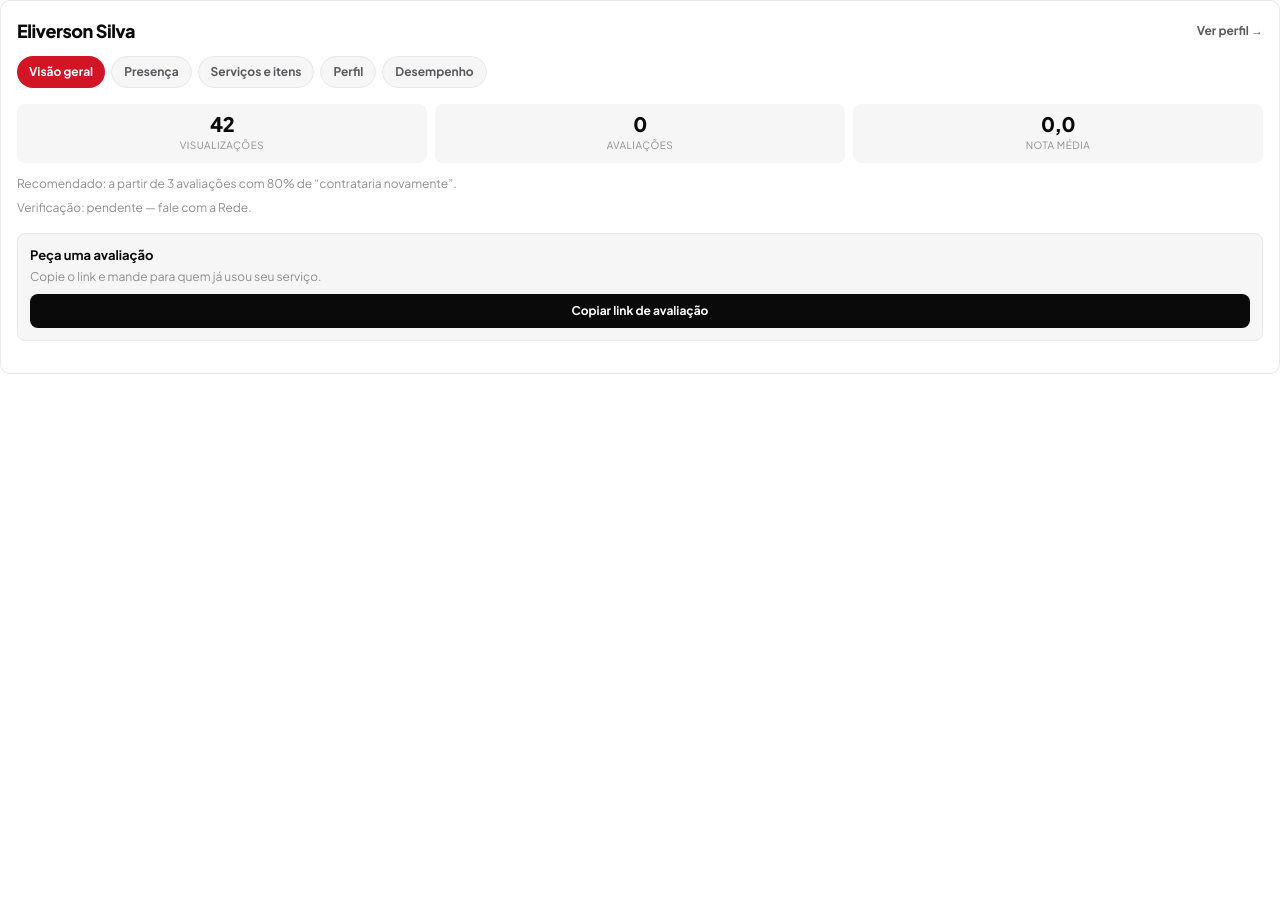
it: PainelClient — navegação por módulos › mostra a aba Perfil com os campos do cadastro
Click the button "Perfil" at x=348, y=72, box left=320, top=56, right=376, bottom=88
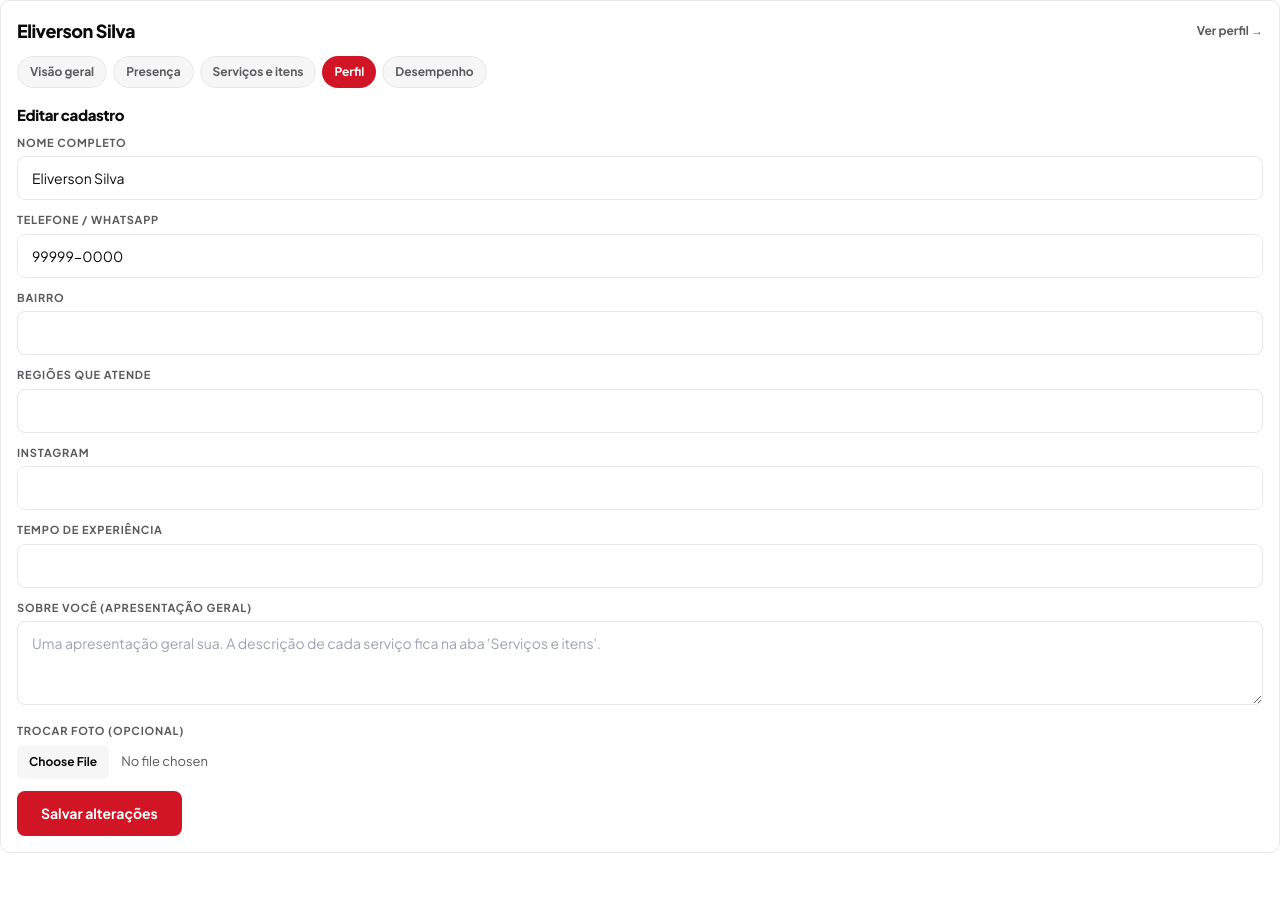
Check: the heading "Editar cadastro" is shown, box left=17, top=105, right=124, bottom=124
